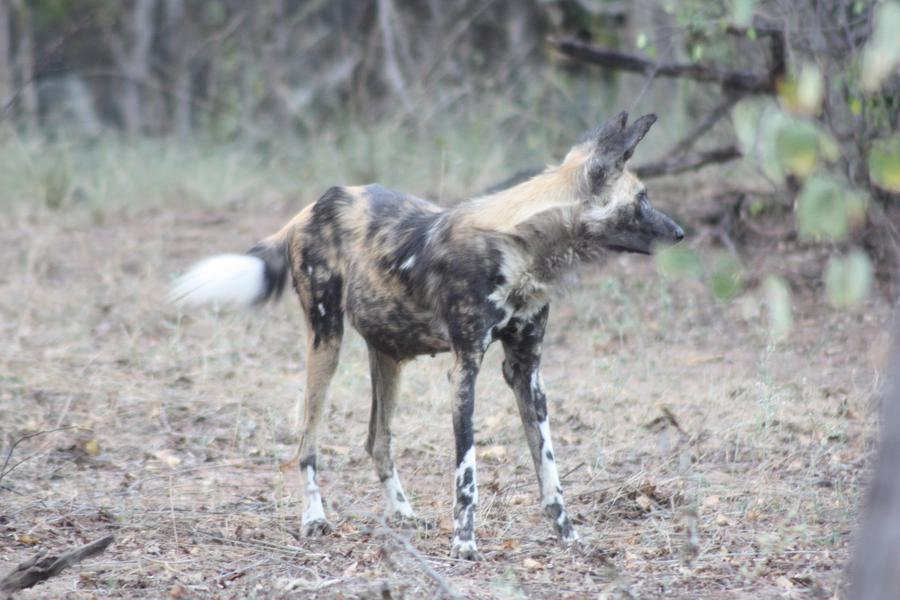wilddog: (281, 175, 601, 530)
